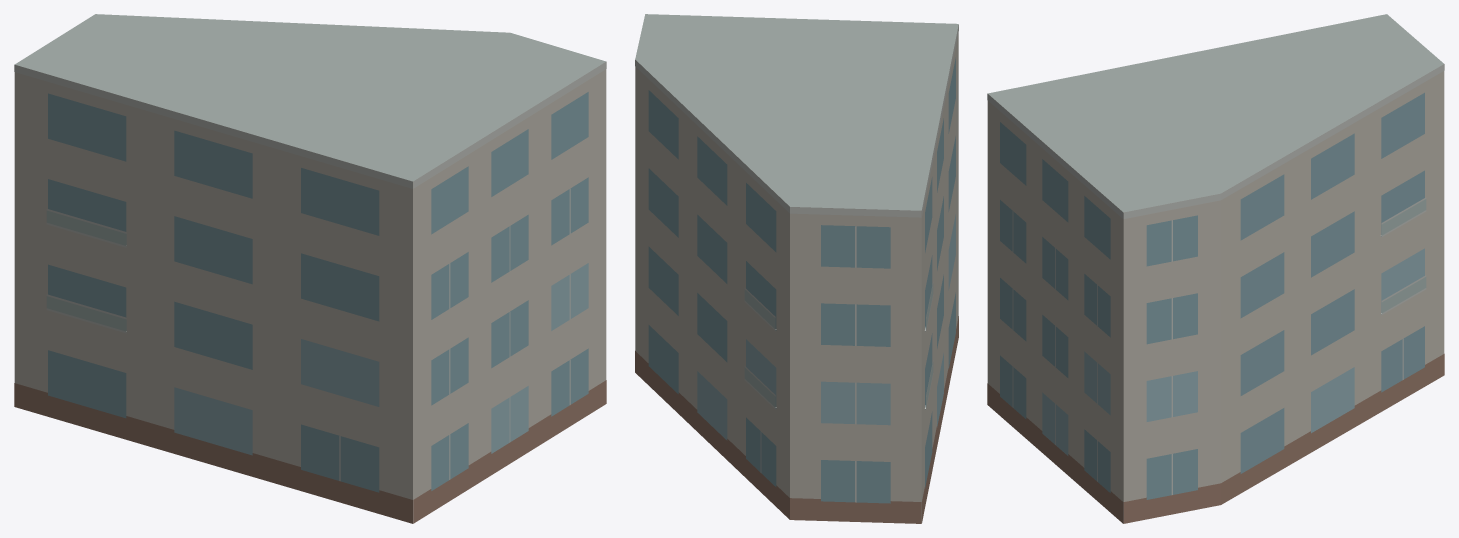
Rendered from survey-upis-32812758.glb.
The picture shows the model from 3 angles, left to right: view 1: azimuth 30°, elevation 25°; view 2: azimuth 150°, elevation 25°; view 3: azimuth 270°, elevation 25°; orthographic projection. The views are drawn at different scales.
Visible parts, largest first — view 1: survey-upis-32812758.tmp; view 2: survey-upis-32812758.tmp; view 3: survey-upis-32812758.tmp.
Part boxes in pixels (x1,y1,x2,y2): survey-upis-32812758.tmp: (14,14,606,523); survey-upis-32812758.tmp: (635,14,958,523); survey-upis-32812758.tmp: (987,14,1444,523).
Size of the model in its own units: 15.42 by 11.27 by 15.
